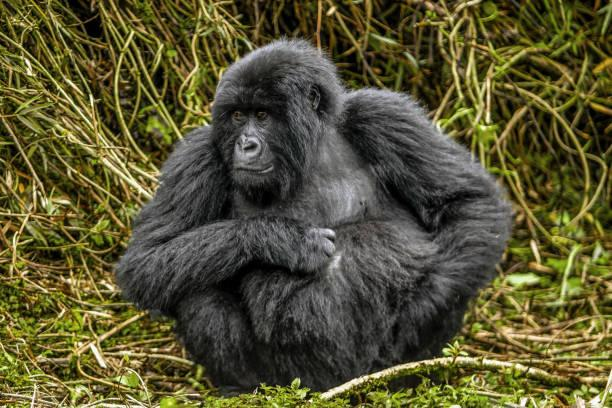goriile_montagne: (118, 23, 512, 397)
